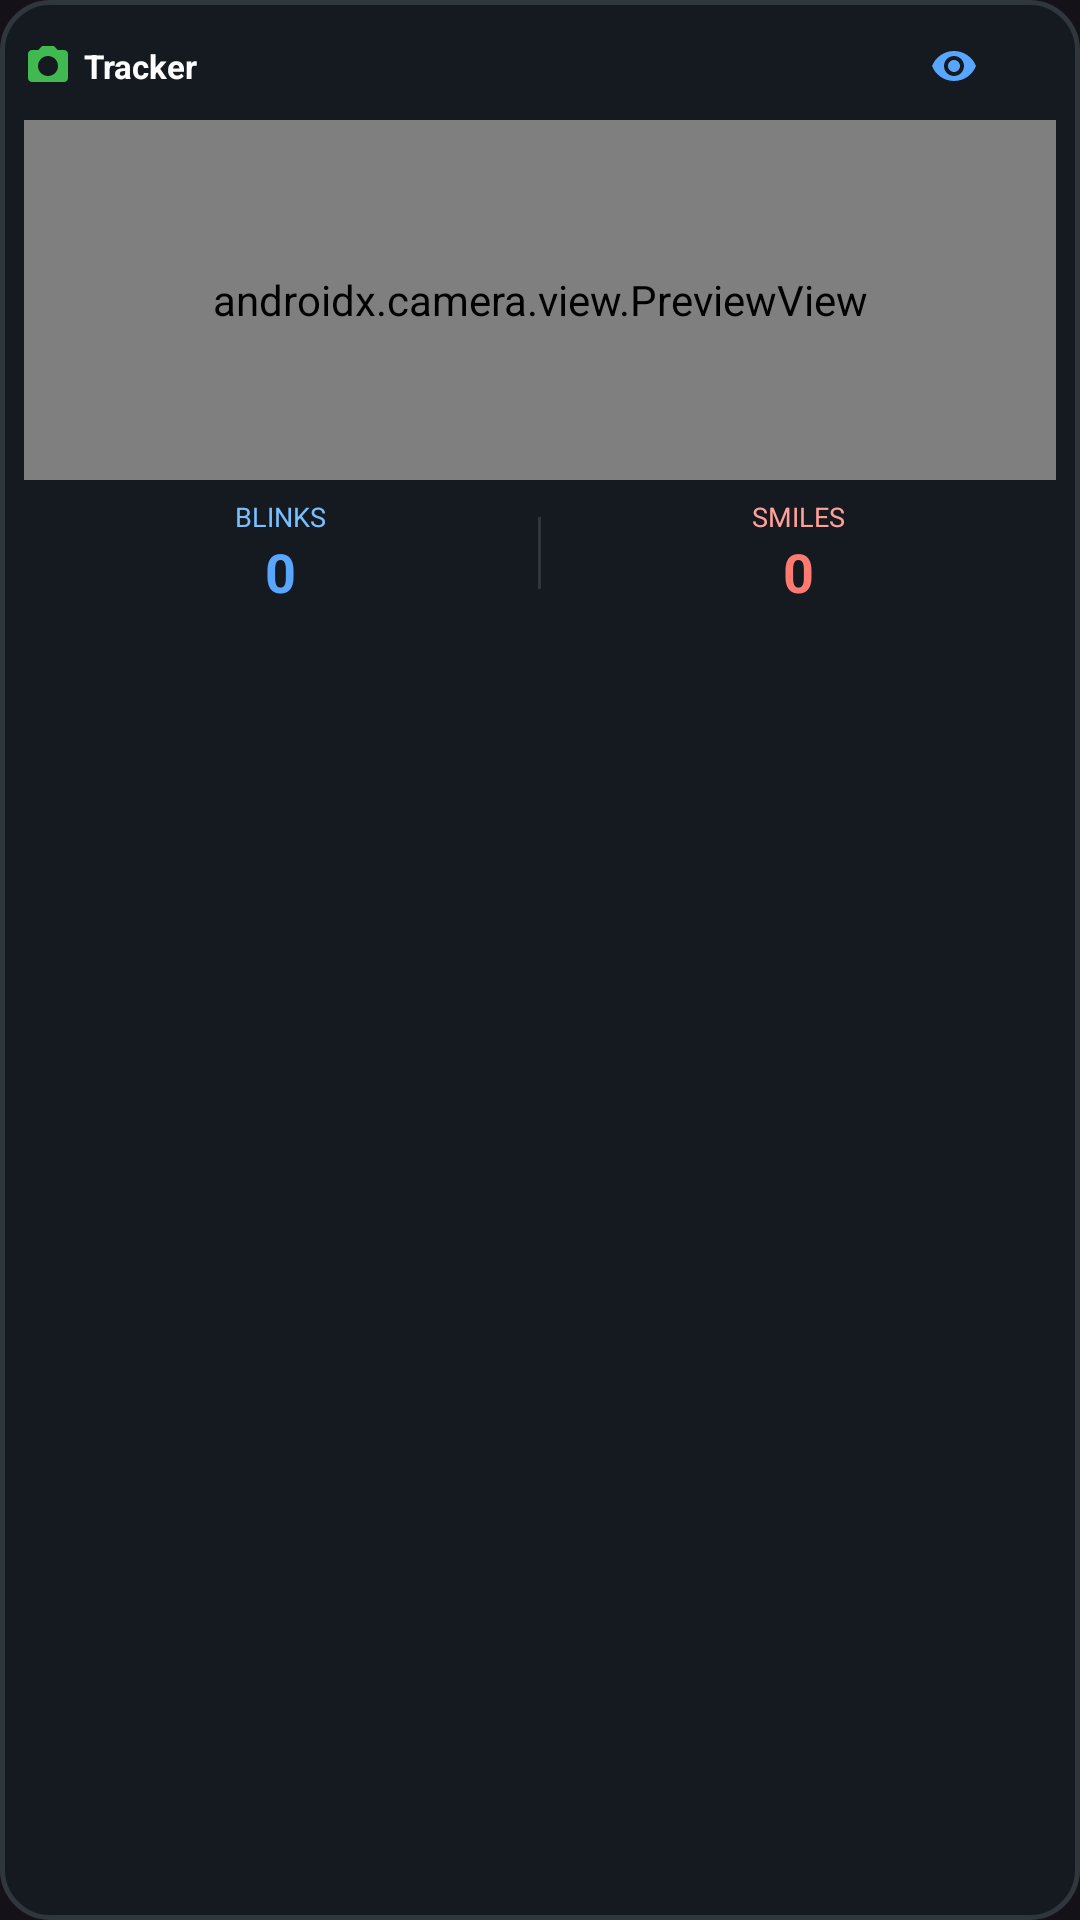

Screen size 1080x1920. Icon name, then its box in pixels as bbox(x1, y1, x2, y2):
Toggle View: bbox(932, 51, 976, 81)
